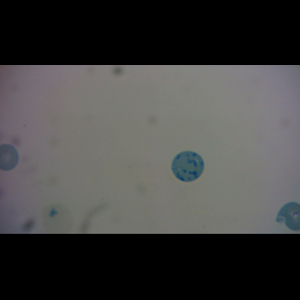aggregate reticulocyte: (170, 150, 205, 184)
